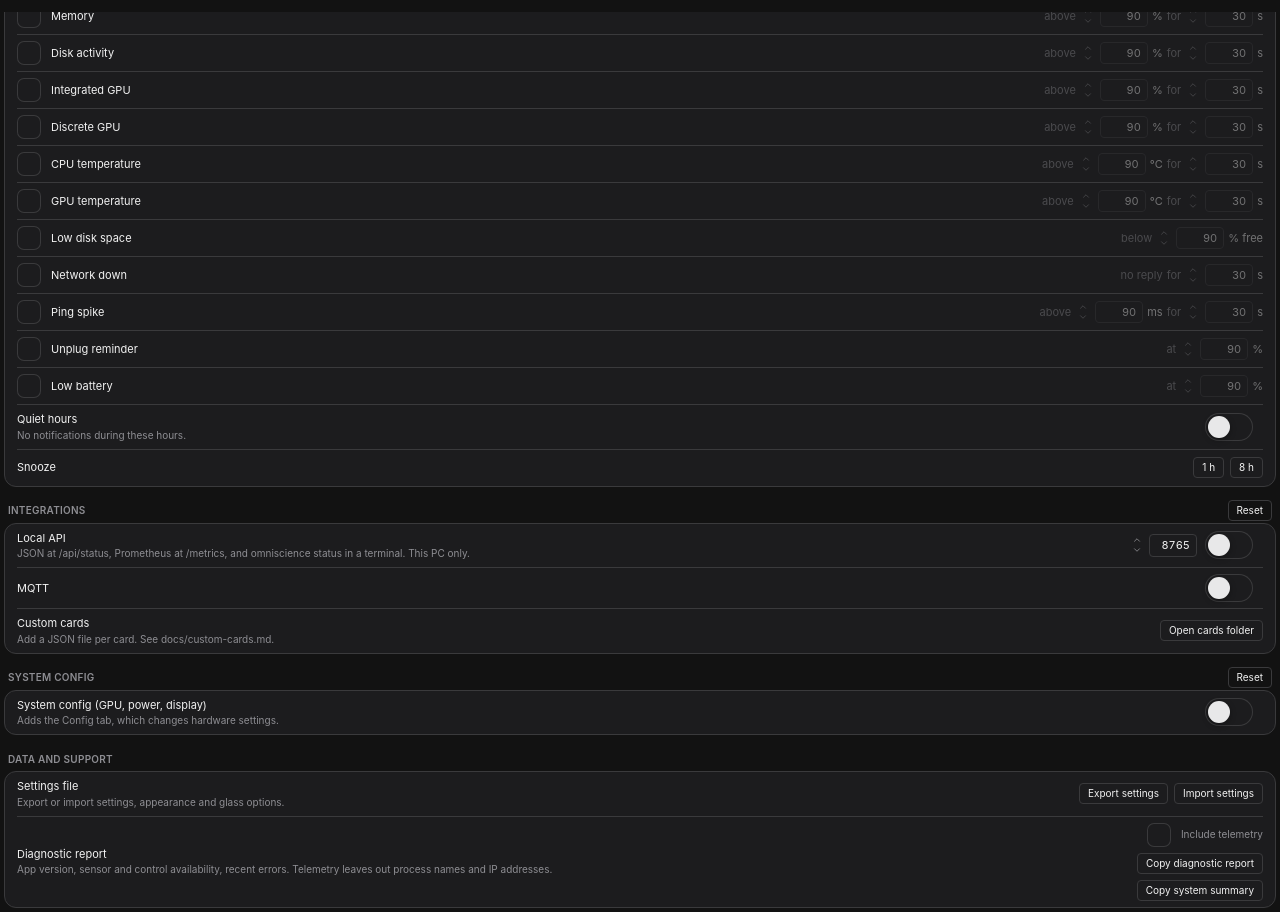
Test: SettingsView › copies the diagnostic report without telemetry by default
(page scrolled)
Check: the checkbox labelled "Include telemetry" is not checked, box [1147,822,1263,846]
Click the button "Copy diagnostic report" at point(1200, 863), box [1137,852,1263,874]
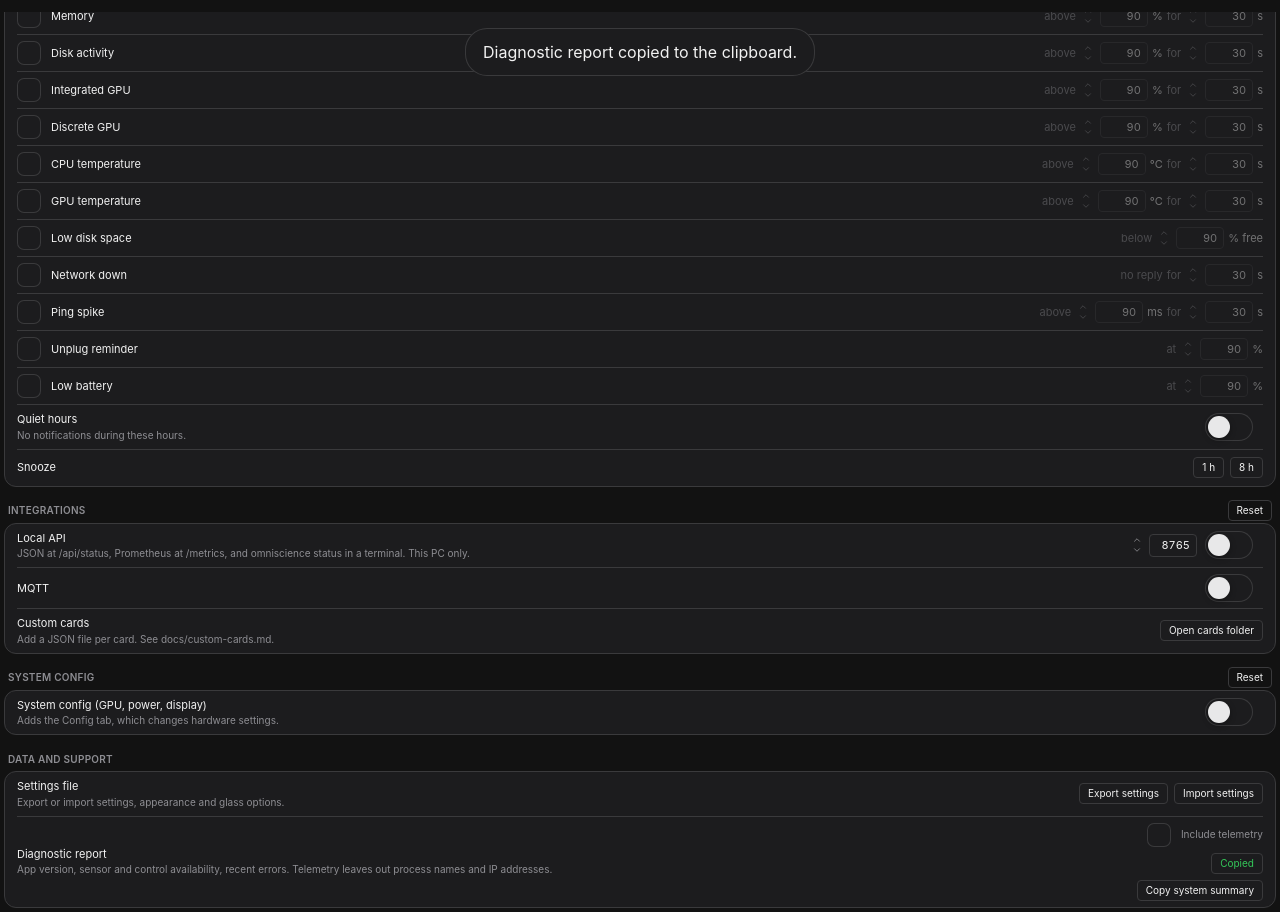
Check: the text "Diagnostic report copied to the clipboard." is shown, box [483,40,797,64]
